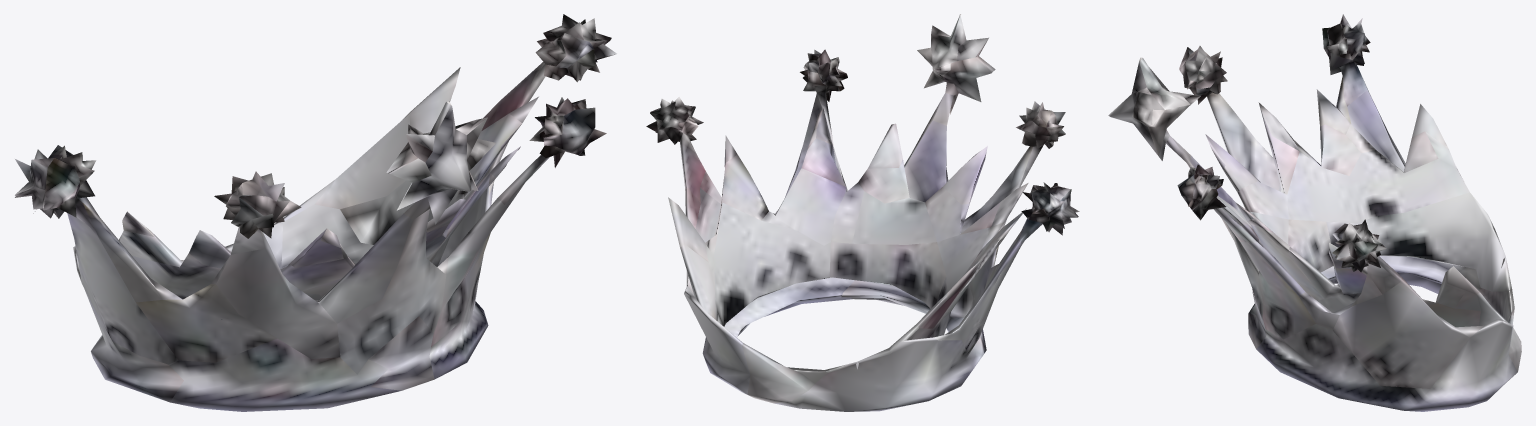
The picture shows the model from 3 angles, left to right: view 1: azimuth 30°, elevation 25°; view 2: azimuth 150°, elevation 25°; view 3: azimuth 270°, elevation 25°; orthographic projection. The views are drawn at different scales.
Visible parts, largest first — view 1: Silver-Crown-10; view 2: Silver-Crown-10; view 3: Silver-Crown-10.
Boxes of the visible parts, x1,y1,x2,y2 form: Silver-Crown-10: (15, 14, 616, 411); Silver-Crown-10: (646, 14, 1079, 411); Silver-Crown-10: (1108, 14, 1521, 411).
Bounding box in the file's own units: 0.3342 × 0.2028 × 0.2563.
Materials: 1 (1 with a texture image).
